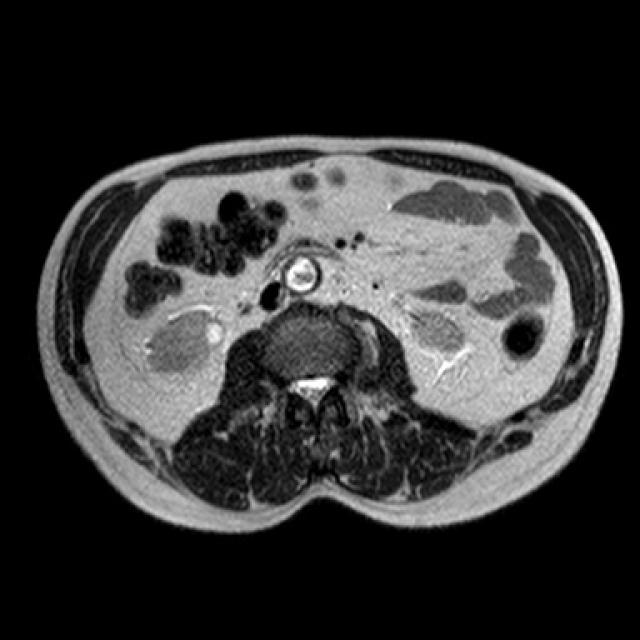sag: (140, 303, 226, 378)
sol: (406, 309, 465, 357)
